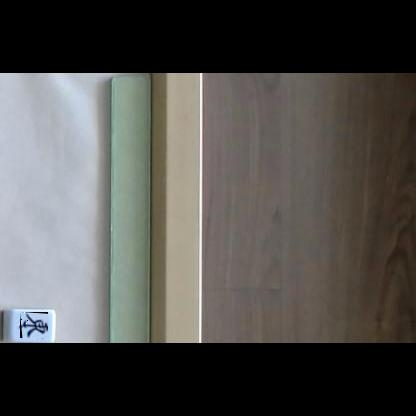1z: (20, 312, 48, 338)
